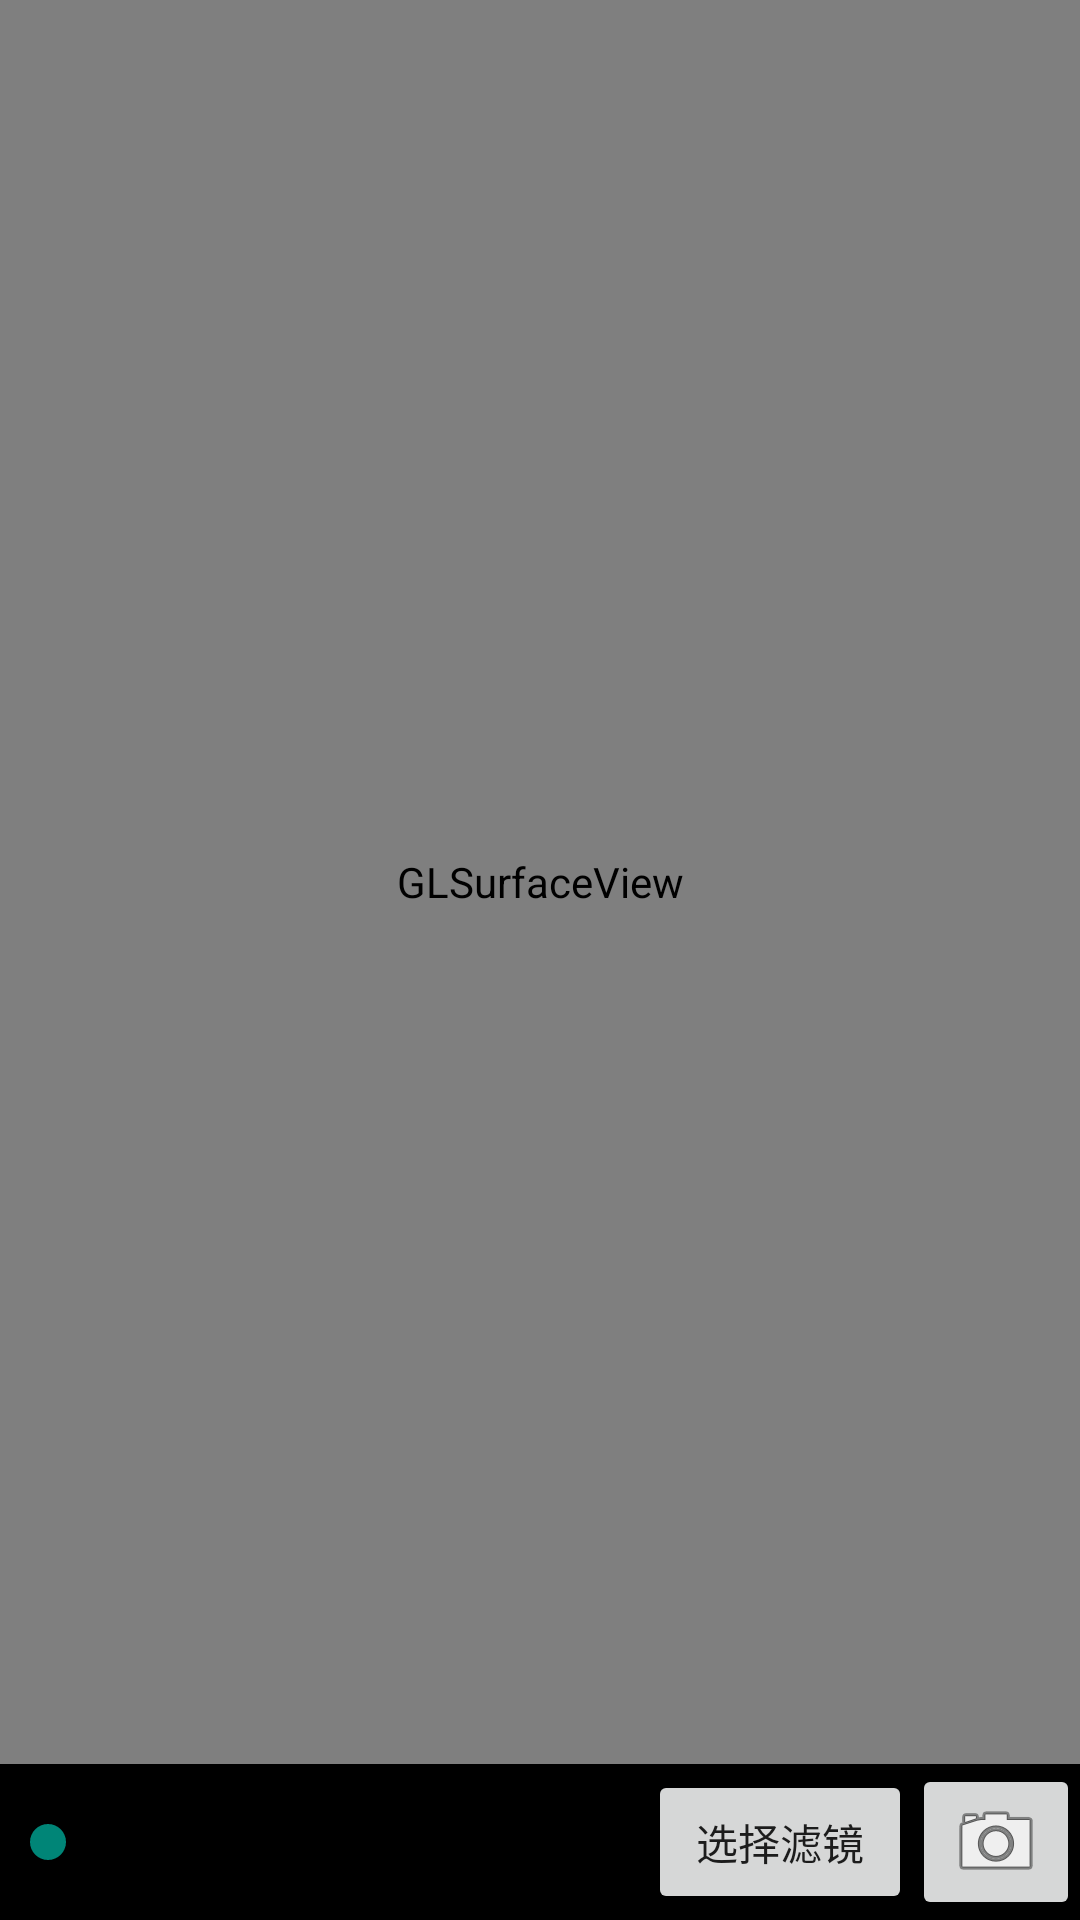

Screen size 1080px×1920px. Icon name, then its center in pixels as point (x, y):
camera: point (996, 1842)
